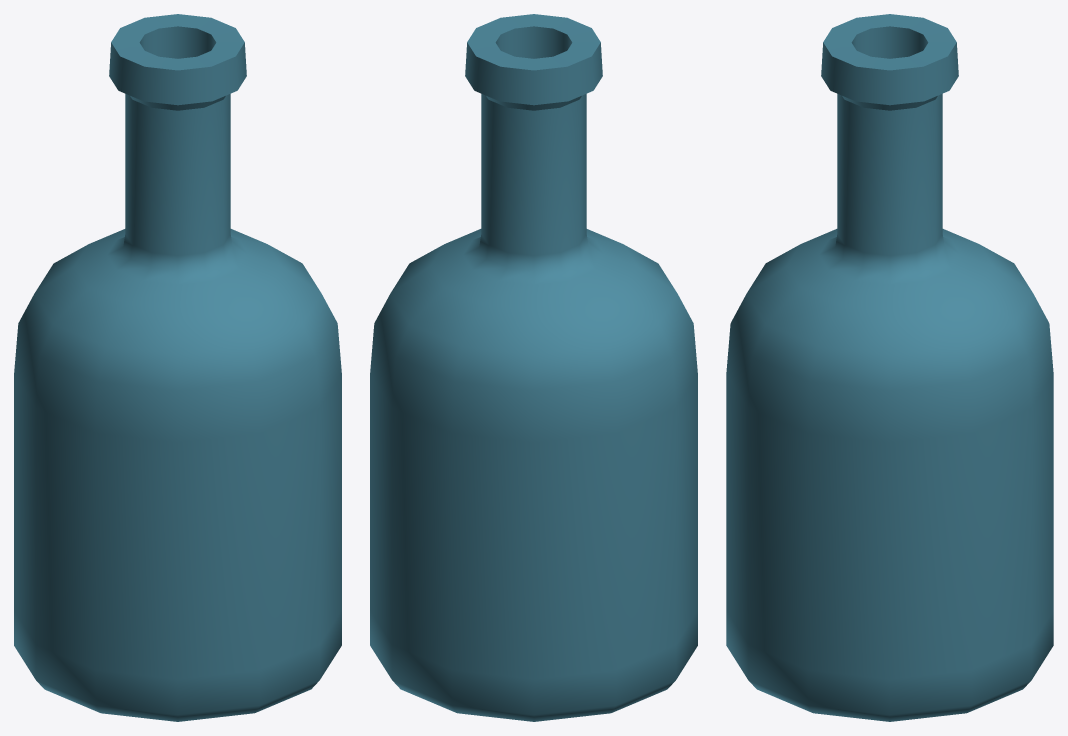
Rendered from bottle.FBX.
The picture shows the model from 3 angles, left to right: view 1: azimuth 30°, elevation 25°; view 2: azimuth 150°, elevation 25°; view 3: azimuth 270°, elevation 25°; orthographic projection.
Visible parts, largest first — view 1: Object1107; view 2: Object1107; view 3: Object1107.
Boxes of the visible parts, x1,y1,x2,y2 form: Object1107: (14,14,341,721); Object1107: (370,14,697,721); Object1107: (726,14,1053,721).
Size of the model in its own units: 0.1646 by 0.3438 by 0.1642.
